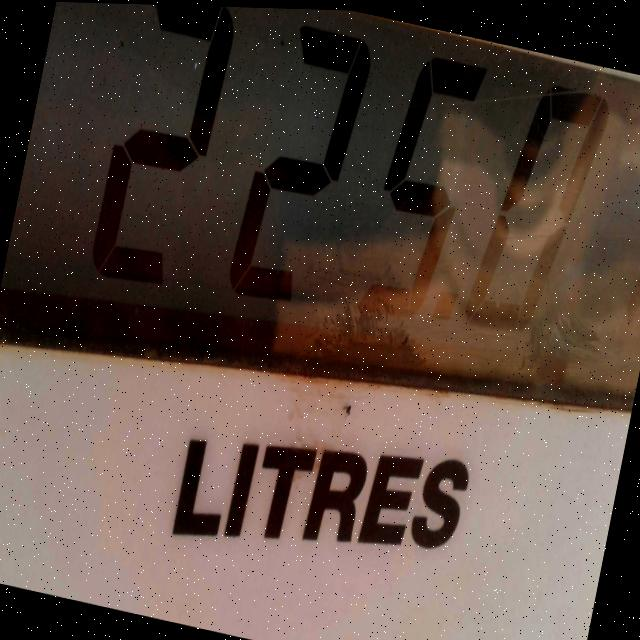.: (425, 283, 459, 337)
0: (472, 69, 604, 340)
2: (222, 13, 374, 315), (86, 2, 239, 289)
5: (362, 42, 488, 321)
